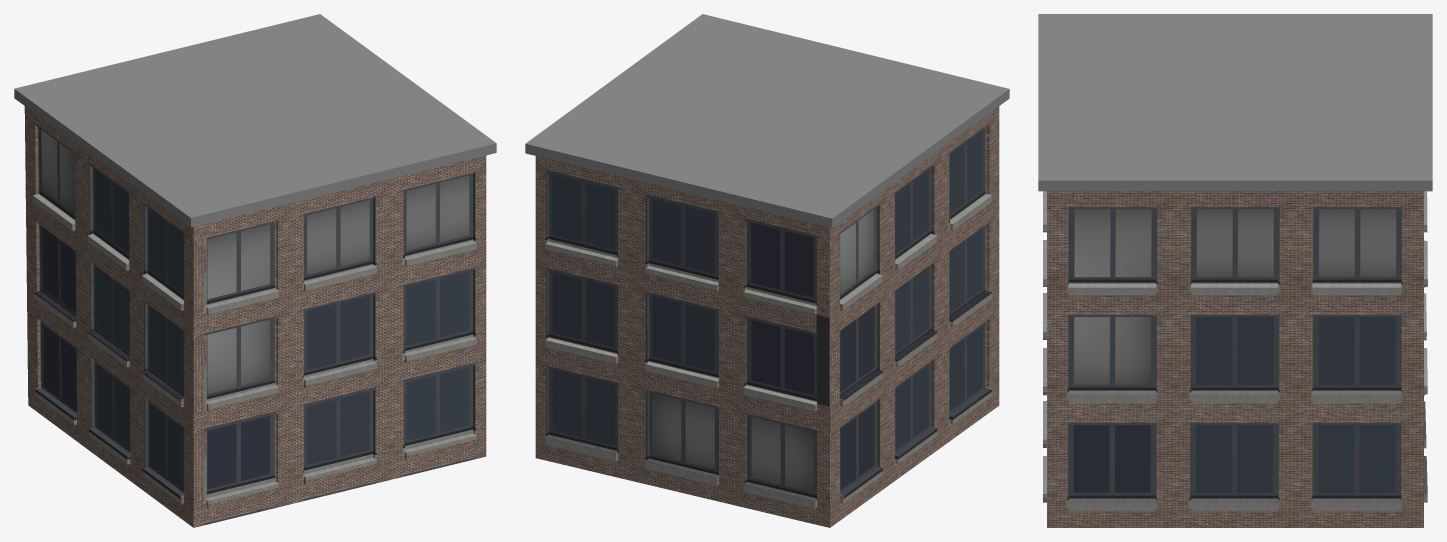
Rendered from Building2.fbx.
3 renders of one model, left to right at view 1: azimuth 30°, elevation 25°; view 2: azimuth 150°, elevation 25°; view 3: azimuth 270°, elevation 25°, orthographic. The views are drawn at different scales.
Visible parts, largest first — view 1: Cube, Cube.001; view 2: Cube, Cube.001; view 3: Cube, Cube.001.
Part boxes in pixels (<box>): Cube: <box>24,106,486,527</box>; Cube.001: <box>14,14,496,227</box>; Cube: <box>535,106,999,527</box>; Cube.001: <box>525,14,1009,228</box>; Cube: <box>1043,191,1427,527</box>; Cube.001: <box>1038,14,1432,191</box>.
Bounding box in the file's own units: 2091 × 2053 × 2091.
Materials: 3 (1 with a texture image).
